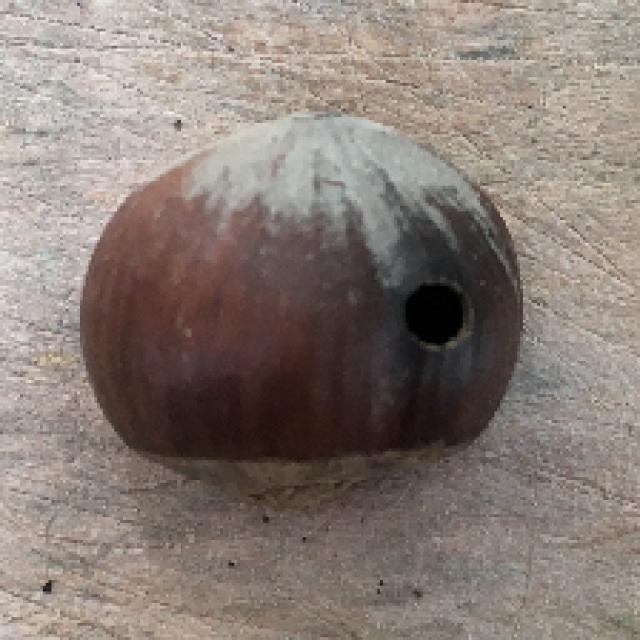damagedHazelnut: (73, 112, 531, 512)
